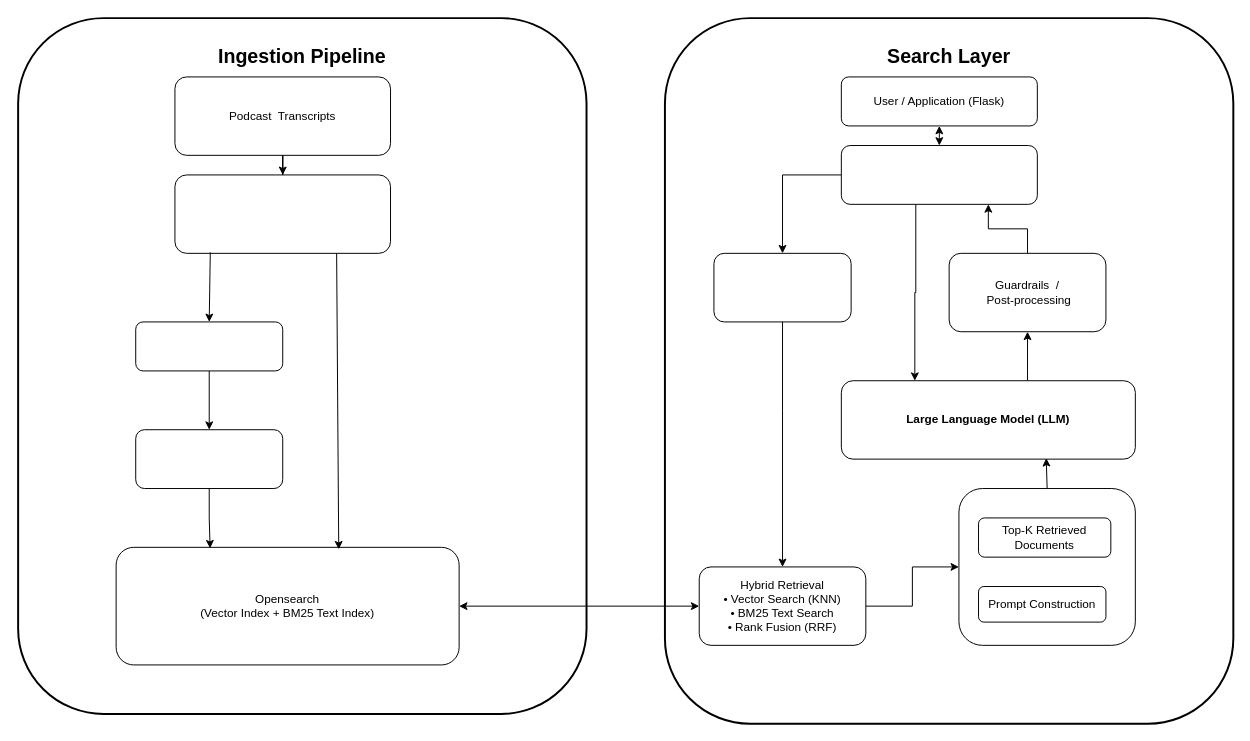
This 1250x741 diagram has some shape labels left out. Here are the shapes that lost their labels. From the top down, the centre of each, then its label:
At (x=938, y=174): "Query Handler / API".
At (x=282, y=213): "Entity Extraction / Metadata".
At (x=782, y=287): "Embedding Model (Query)".
At (x=209, y=346): "Semantic Chunking".
At (x=209, y=459): "Embedding Model (Documents)".
